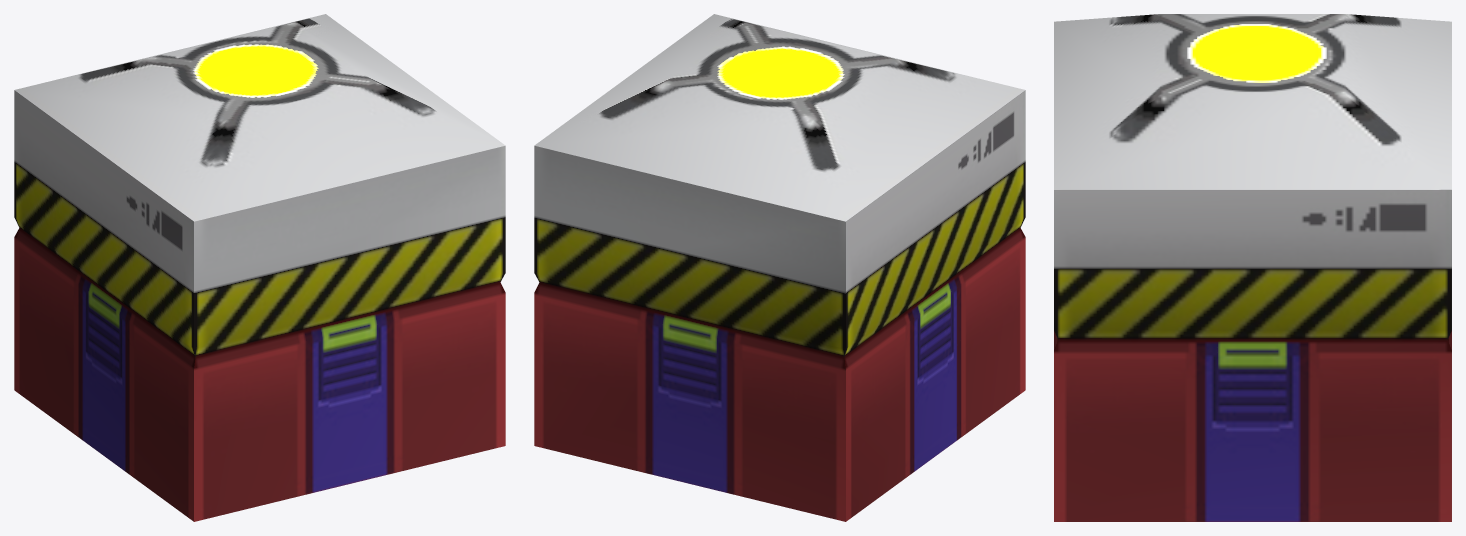
Rendered from LootBox.glb.
3 views of the same model, side by side, from view 1: azimuth 30°, elevation 25°; view 2: azimuth 150°, elevation 25°; view 3: azimuth 270°, elevation 25° (orthographic). The views are drawn at different scales.
Parts seen in each view (by area): view 1: Plane.001; view 2: Plane.001; view 3: Plane.001.
Boxes of the visible parts, x1,y1,x2,y2 form: Plane.001: [14, 14, 505, 521]; Plane.001: [534, 14, 1025, 521]; Plane.001: [1054, 14, 1451, 521].
Bounding box in the file's own units: 1 × 1.06 × 1.
Materials: 1 (1 with a texture image).
